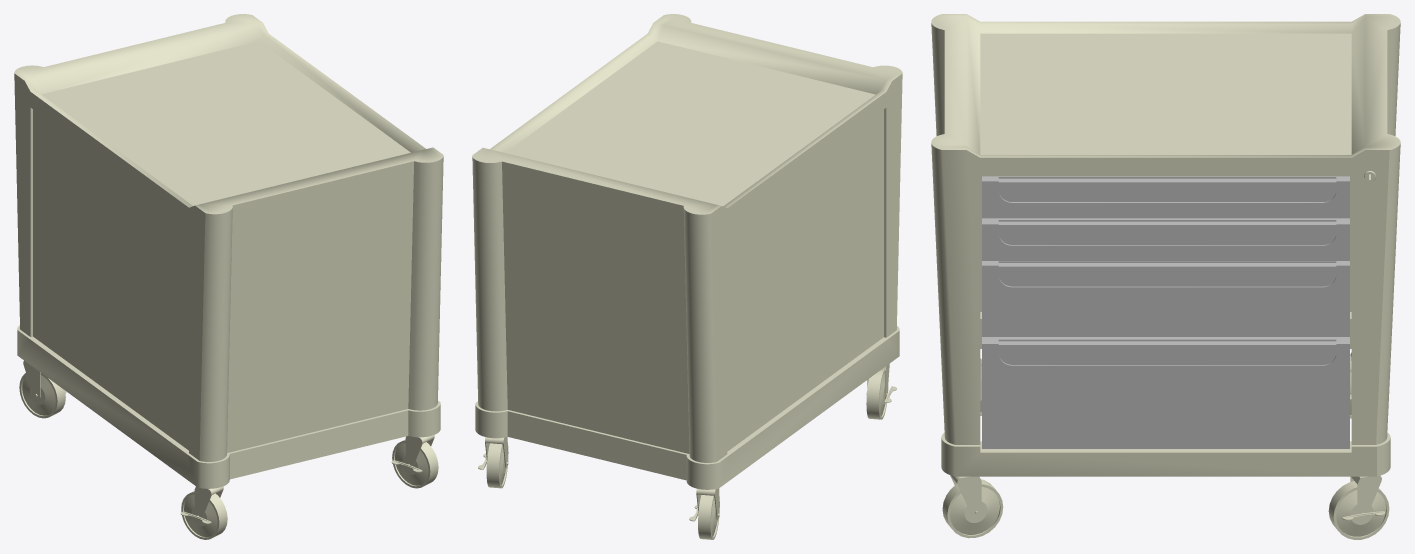
File: cart.dae
3 views of the same model, side by side, from view 1: azimuth 30°, elevation 25°; view 2: azimuth 150°, elevation 25°; view 3: azimuth 270°, elevation 25° (orthographic). The views are drawn at different scales.
Parts seen in each view (by area): view 1: Group5, Group8, Group4, Caster_Wheel (×3), Caster_Swivel (×2); view 2: Group5, Group8, Group4, Caster_Wheel (×3); view 3: Group5, Group8, Group7, Group2, Group3, Group6, Group4, Caster_Wheel (×2), Caster_Swivel (×2).
Part boxes in pixels (bbox=[...]): Group5: bbox=[14, 14, 443, 461]; Group8: bbox=[41, 41, 410, 205]; Group4: bbox=[17, 325, 440, 488]; Caster_Wheel (×3): bbox=[19, 373, 438, 539]; Caster_Swivel (×2): bbox=[194, 435, 434, 521]; Group5: bbox=[472, 14, 902, 462]; Group8: bbox=[505, 41, 875, 206]; Group4: bbox=[475, 326, 899, 489]; Caster_Wheel (×3): bbox=[478, 370, 896, 539]; Group5: bbox=[931, 14, 1400, 444]; Group8: bbox=[980, 33, 1351, 154]; Group7: bbox=[982, 337, 1349, 448]; Group2: bbox=[982, 261, 1349, 336]; Group3: bbox=[982, 218, 1349, 260]; Group6: bbox=[982, 176, 1349, 218]; Group4: bbox=[941, 312, 1390, 476]; Caster_Wheel (×2): bbox=[942, 479, 1389, 539]; Caster_Swivel (×2): bbox=[950, 475, 1381, 519].
Bounding box in the file's own units: 25.24 × 34.62 × 32.03.
